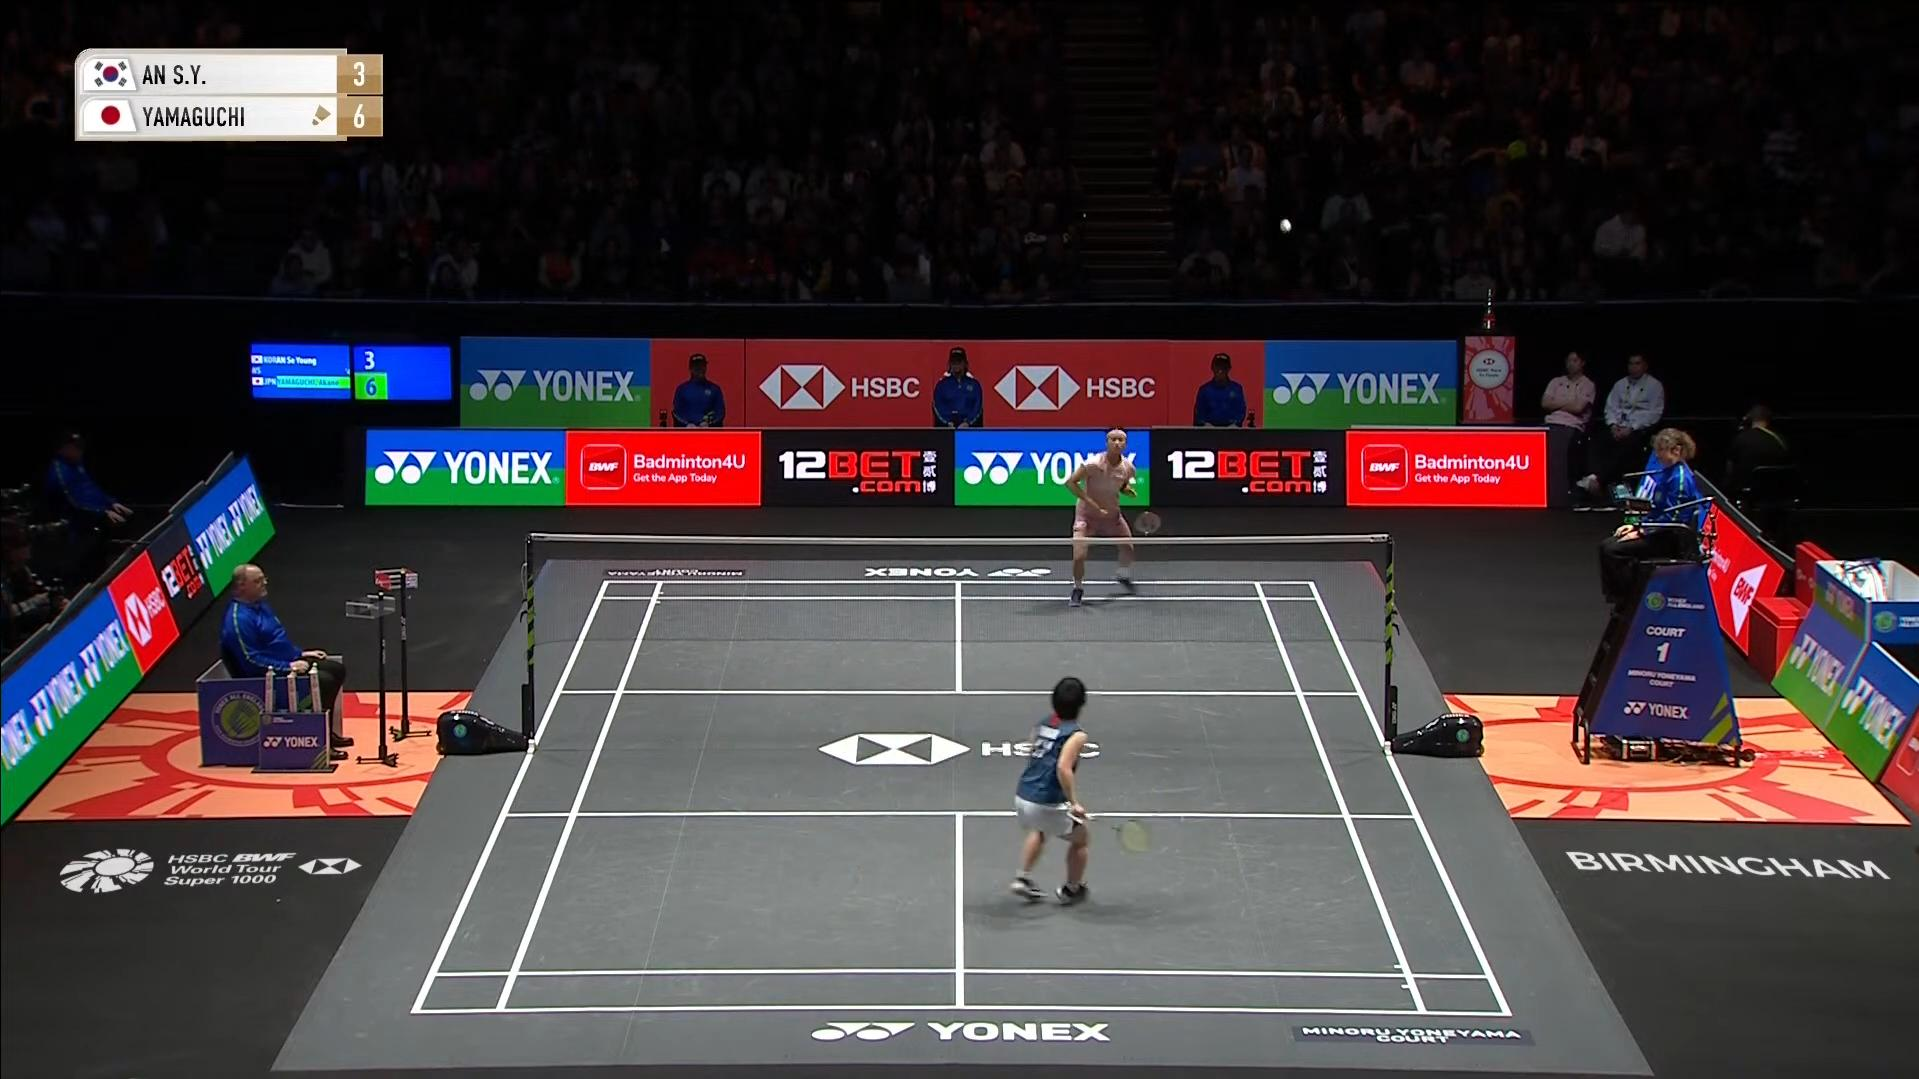shuttle: (1275, 215, 1300, 241)
